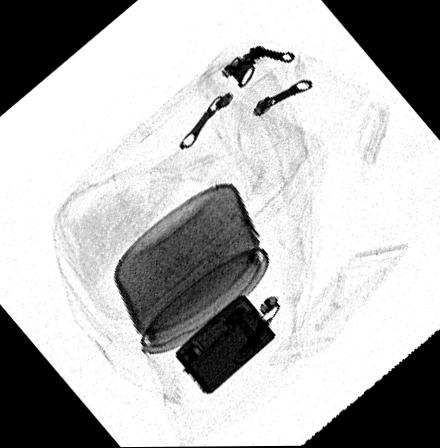Lighter: (173, 294, 278, 396)
